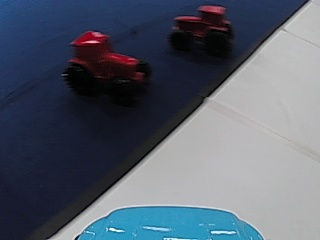Tracktor: (61, 29, 153, 97), (170, 3, 233, 54)
